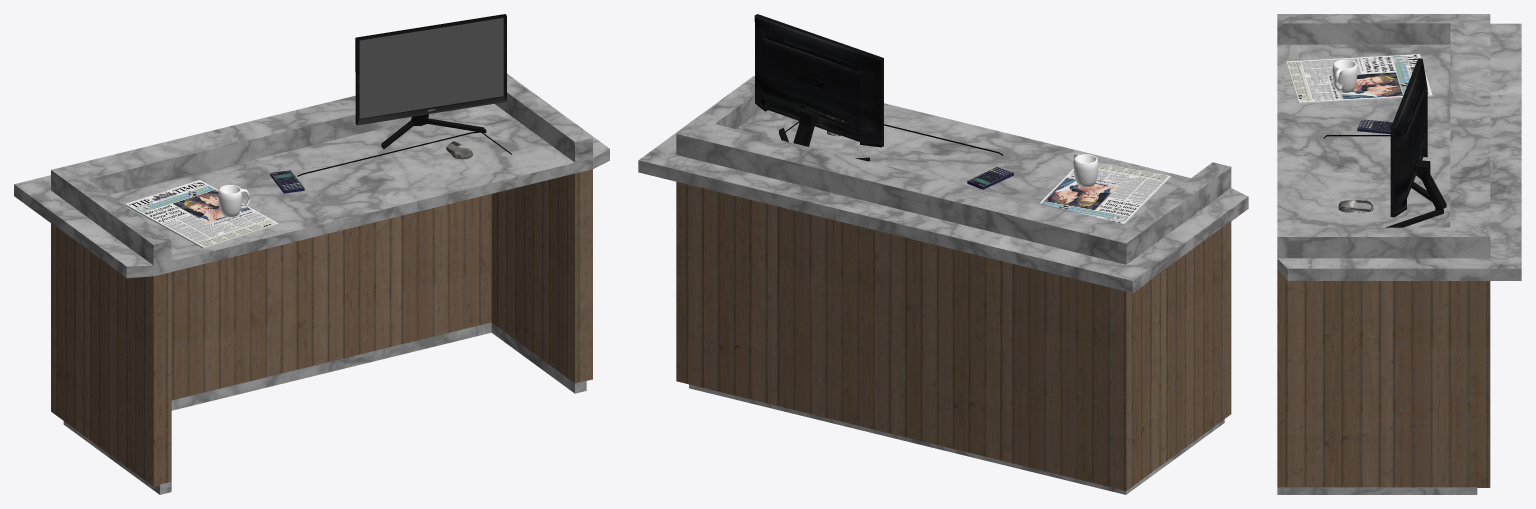
Rendered from reception_desk.glb.
3 views of the same model, side by side, from view 1: azimuth 30°, elevation 25°; view 2: azimuth 150°, elevation 25°; view 3: azimuth 270°, elevation 25° (orthographic). The views are drawn at different scales.
Visible parts, largest first — view 1: Cube.009, Cube.003, Plane.041, Cylinder.017; view 2: Cube.009, Cube.003, Plane.041, Cylinder.017; view 3: Cube.009, Cube.003, Plane.041, Cylinder.017, Cube.008, Plane.040.
Boxes of the visible parts, x1,y1,x2,y2 form: Cube.009: (14,73,609,494); Cube.003: (355,14,506,148); Plane.041: (125,180,278,248); Cylinder.017: (218,185,250,217); Cube.009: (638,76,1248,494); Cube.003: (754,14,883,161); Plane.041: (1040,163,1170,223); Cylinder.017: (1072,153,1098,187); Cube.009: (1277,14,1521,494); Cube.003: (1386,58,1446,227); Plane.041: (1286,54,1432,103); Cylinder.017: (1332,59,1357,92); Cube.008: (1357,119,1392,134); Plane.040: (1338,200,1373,212).
Size of the model in its own units: 1.96 by 1.32 by 0.8262.
7 materials, 5 textured.
